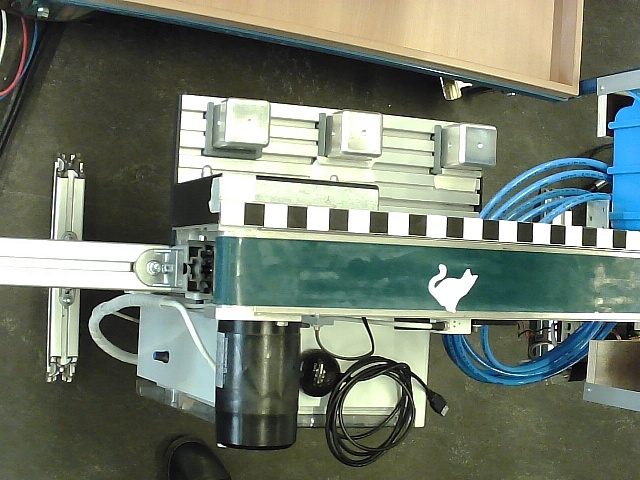cat: (428, 264, 479, 313)
